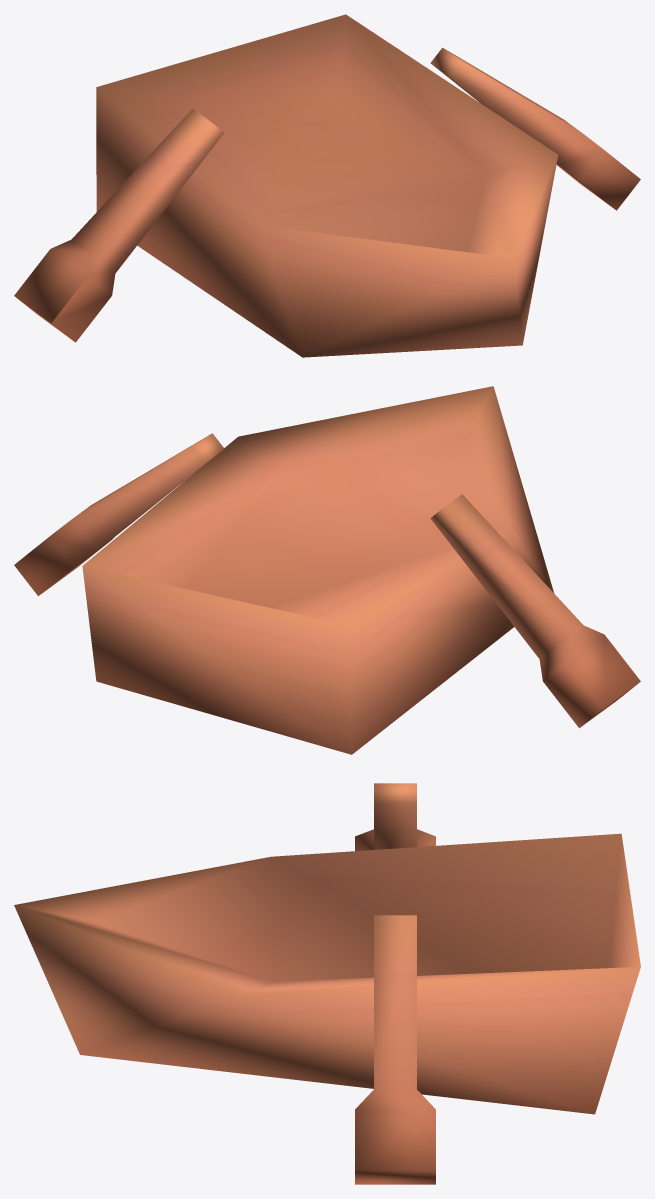
Rendered from boat-row-small-low.glb.
The picture shows the model from 3 angles, top to bottom: view 1: azimuth 30°, elevation 25°; view 2: azimuth 150°, elevation 25°; view 3: azimuth 270°, elevation 25°; orthographic projection. The views are drawn at different scales.
Parts seen in each view (by area): view 1: boat-row-small baked, paddles baked; view 2: boat-row-small baked, paddles baked; view 3: boat-row-small baked, paddles baked.
Boxes of the visible parts, x1,y1,x2,y2 form: boat-row-small baked: (96,14,558,357); paddles baked: (14,47,640,342); boat-row-small baked: (82,386,553,754); paddles baked: (14,433,640,728); boat-row-small baked: (14,833,640,1114); paddles baked: (355,783,435,1184).
Size of the model in its own units: 2.94 by 0.8477 by 2.5.
Materials: 1 (1 with a texture image).
